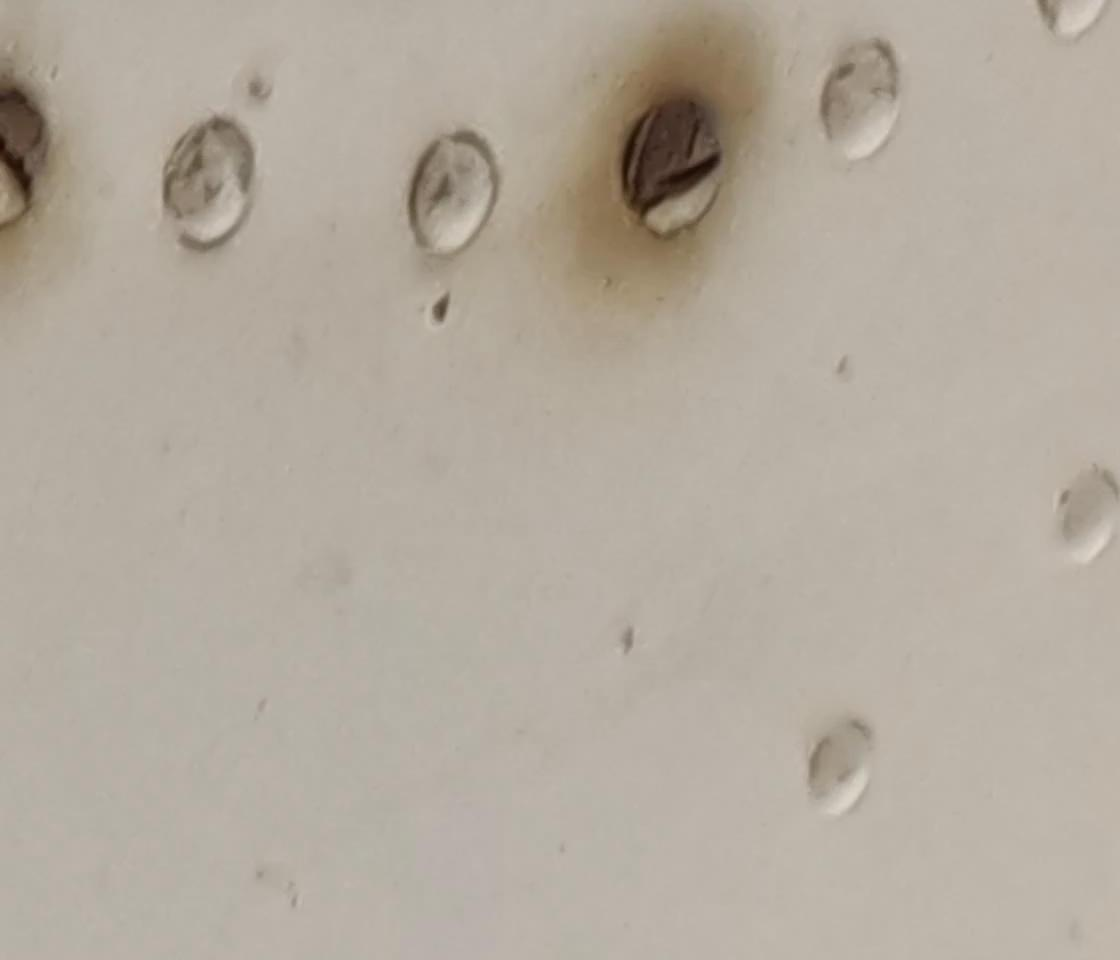rust: (597, 81, 725, 220)
